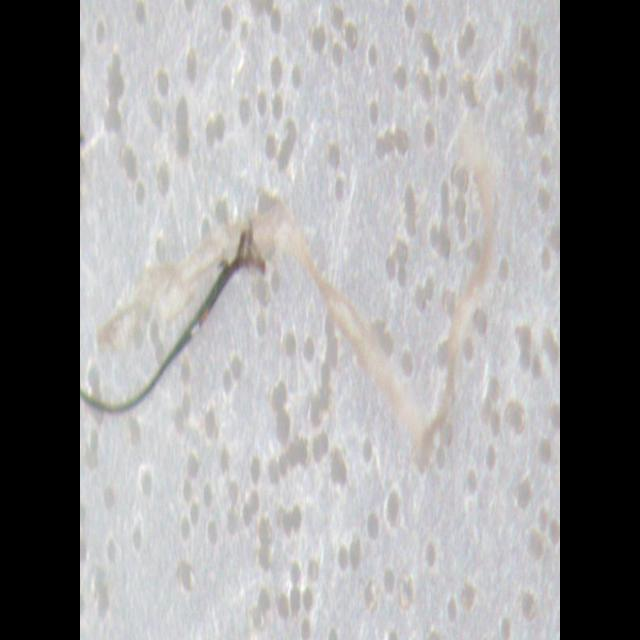Fibre: (80, 141, 506, 479)
